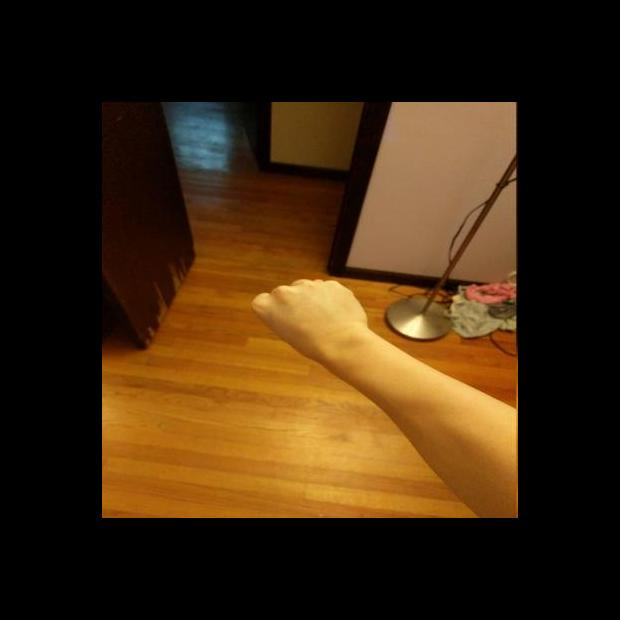L: (246, 276, 373, 370)
